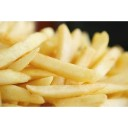frenchfries: (1, 22, 128, 107)
